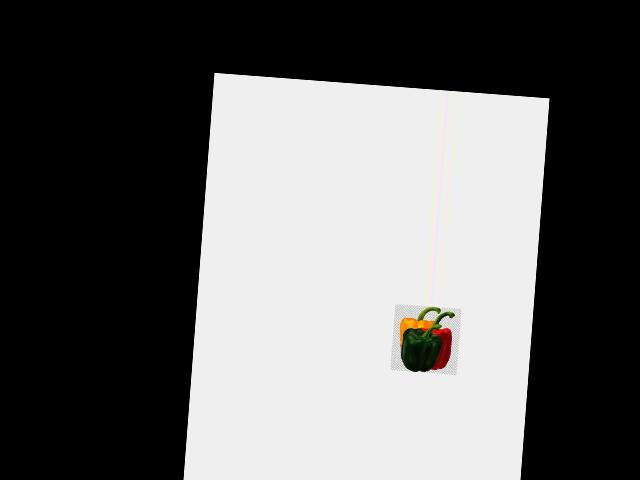bell_pepper: (419, 308, 461, 373)
